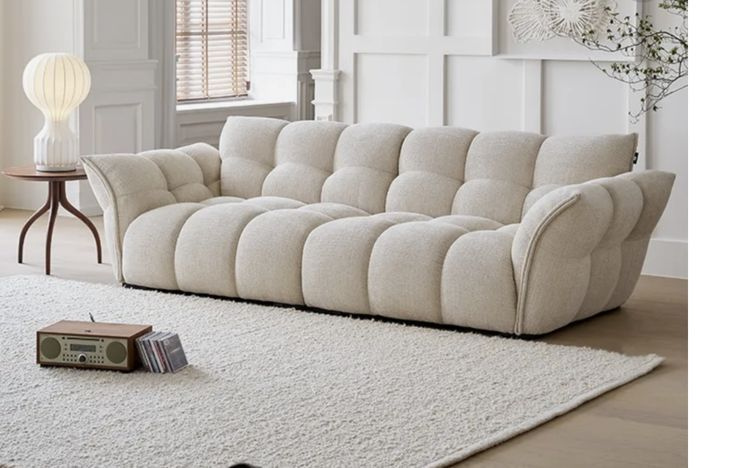3seatersofa: (83, 117, 674, 334)
backrest: (220, 116, 634, 223)
leftarmrest: (513, 171, 672, 331)
rightarmrest: (83, 144, 218, 280)
seat: (121, 197, 516, 332)
